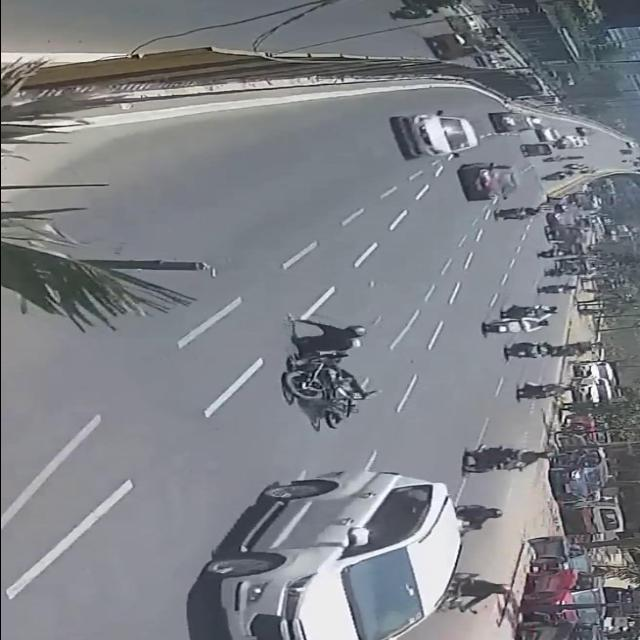accident: (272, 315, 380, 437)
non_accident: (508, 529, 607, 640), (522, 200, 616, 266), (551, 410, 617, 500), (561, 358, 631, 409), (517, 116, 605, 156)
